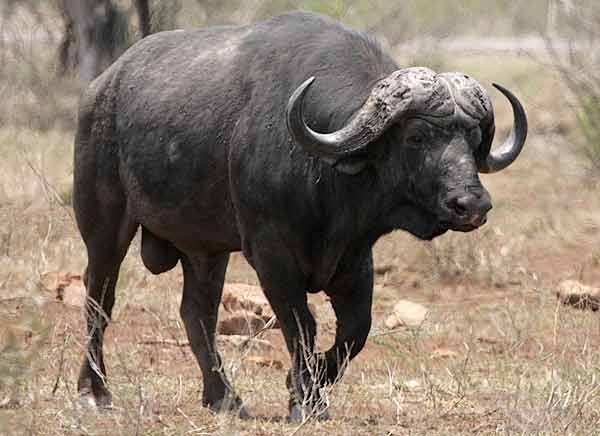buffalo: (72, 10, 528, 422)
